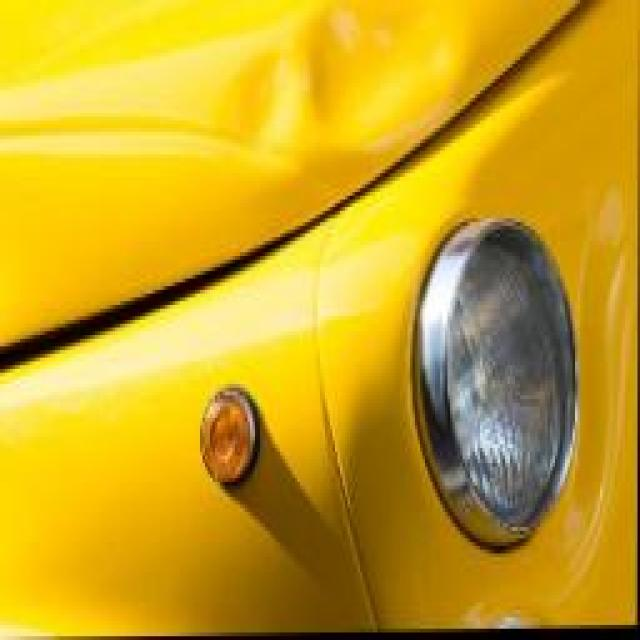Bonnet: (215, 0, 443, 188)
